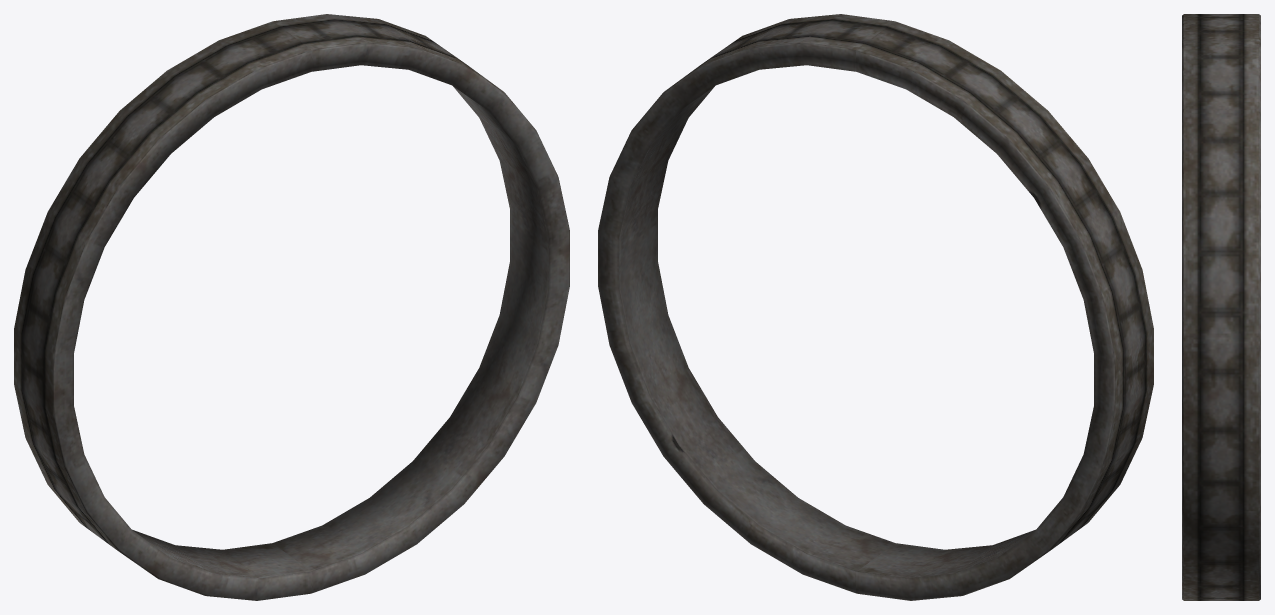
The model's file is 04_02_reactor_inner_ring.dae.
3 views of the same model, side by side, from view 1: azimuth 30°, elevation 25°; view 2: azimuth 150°, elevation 25°; view 3: azimuth 270°, elevation 25° (orthographic). The views are drawn at different scales.
Parts seen in each view (by area): view 1: ring_inner; view 2: ring_inner; view 3: ring_inner.
Part boxes in pixels (box(x1,y1,x2,y2)): ring_inner: box(14, 14, 569, 600); ring_inner: box(598, 14, 1153, 600); ring_inner: box(1182, 14, 1260, 600).
Bounding box in the file's own units: 3.18 × 3.2 × 0.4295.
